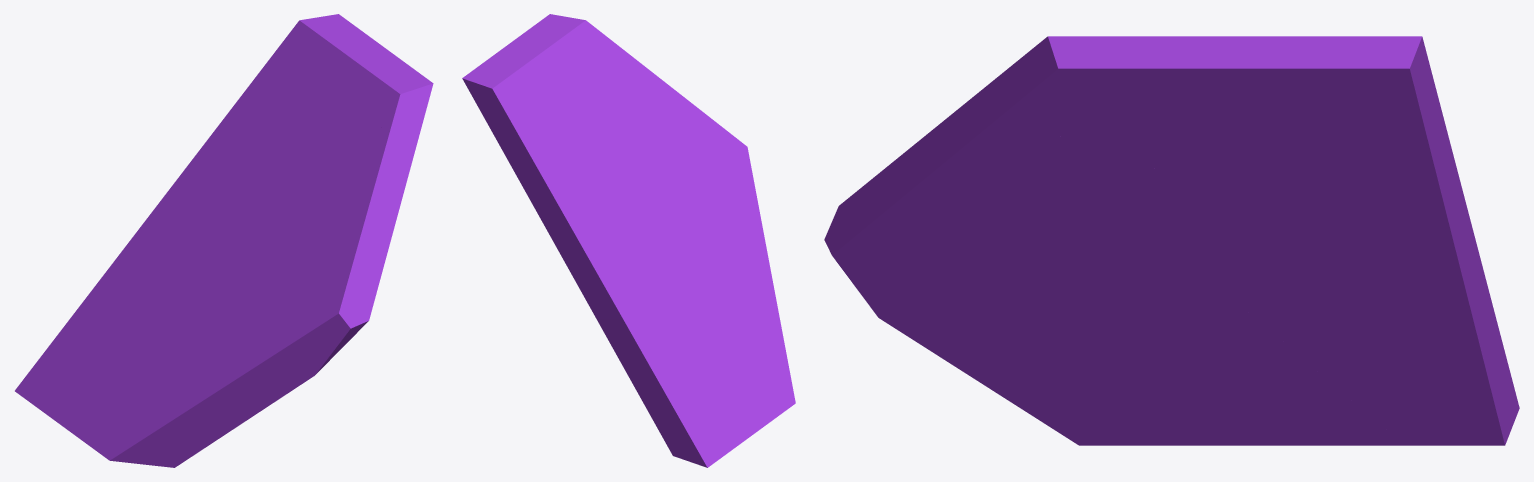
Rendered from Window_115_2_chunks.fbx.
3 views of the same model, side by side, from view 1: azimuth 30°, elevation 25°; view 2: azimuth 150°, elevation 25°; view 3: azimuth 270°, elevation 25° (orthographic). The views are drawn at different scales.
Parts seen in each view (by area): view 1: Window_115_2_0, Window_115_2_6, Window_115_2_4, Window_115_2_5, Window_115_2_8, Window_115_2_9, Window_115_2_2, Window_115_2_7, Window_115_2_1; view 2: Window_115_2_6, Window_115_2_0, Window_115_2_8, Window_115_2_5, Window_115_2_4, Window_115_2_9, Window_115_2_2, Window_115_2_7, Window_115_2_1; view 3: Window_115_2_5, Window_115_2_0, Window_115_2_1, Window_115_2_4, Window_115_2_6, Window_115_2_8, Window_115_2_3, Window_115_2_7, Window_115_2_2.
Boxes of the visible parts, box(x1,y1,x2,y2) form: Window_115_2_0: box(93, 258, 376, 467); Window_115_2_6: box(126, 58, 270, 289); Window_115_2_4: box(261, 123, 417, 292); Window_115_2_5: box(272, 14, 433, 152); Window_115_2_8: box(15, 246, 153, 434); Window_115_2_9: box(74, 270, 243, 439); Window_115_2_2: box(261, 55, 312, 246); Window_115_2_7: box(212, 233, 261, 276); Window_115_2_1: box(81, 400, 129, 448); Window_115_2_6: box(506, 127, 670, 319); Window_115_2_0: box(677, 120, 795, 414); Window_115_2_8: box(596, 307, 762, 467); Window_115_2_5: box(462, 14, 606, 147); Window_115_2_4: box(606, 37, 713, 199); Window_115_2_9: box(668, 222, 769, 426); Window_115_2_2: box(501, 118, 666, 195); Window_115_2_7: box(656, 191, 686, 248); Window_115_2_1: box(752, 366, 780, 422); Window_115_2_5: box(1003, 36, 1431, 169); Window_115_2_0: box(824, 170, 1126, 445); Window_115_2_1: box(1090, 256, 1404, 445); Window_115_2_4: box(859, 59, 1140, 269); Window_115_2_6: box(1240, 75, 1481, 320); Window_115_2_8: box(1299, 263, 1519, 445); Window_115_2_3: box(1100, 168, 1246, 267); Window_115_2_7: box(1184, 232, 1361, 354); Window_115_2_2: box(1239, 71, 1432, 231).
Size of the model in its own units: 720 by 763 by 794.
